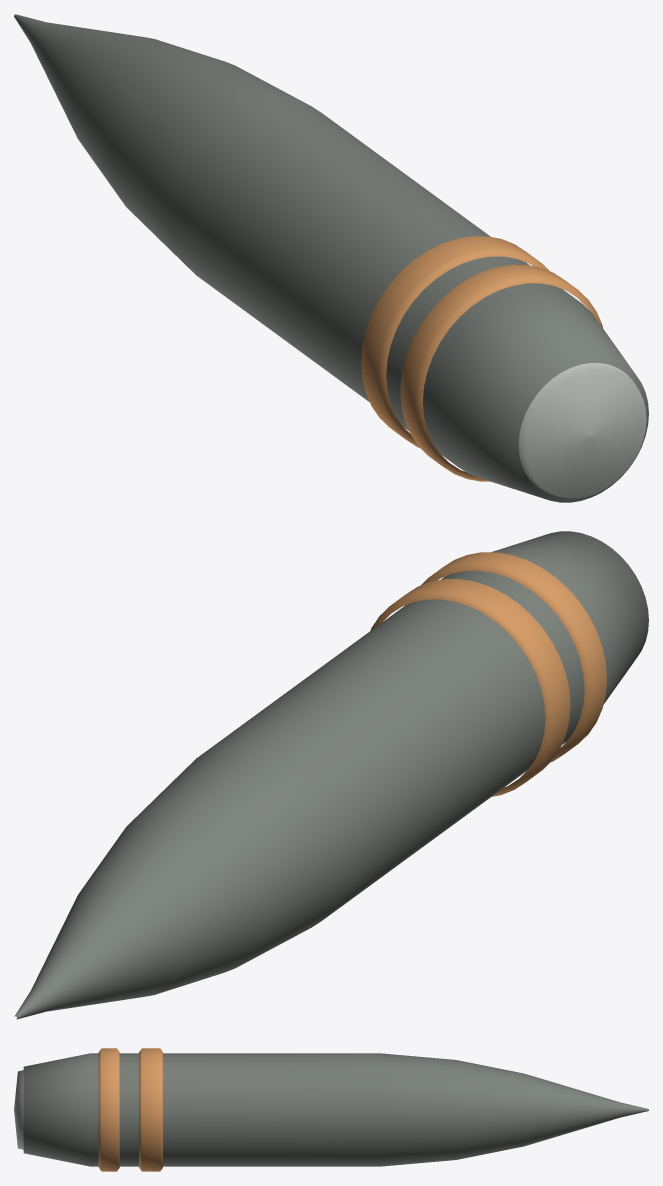
Rendered from ap_shell.glb.
3 views of the same model, one above another, from view 1: azimuth 30°, elevation 25°; view 2: azimuth 150°, elevation 25°; view 3: azimuth 270°, elevation 25° (orthographic). The views are drawn at different scales.
Parts seen in each view (by area): view 1: OgivePenetrator, MachinedBase, CopperBandForward, CopperBandRear; view 2: OgivePenetrator, CopperBandForward, CopperBandRear; view 3: OgivePenetrator, CopperBandForward, CopperBandRear, MachinedBase.
Part boxes in pixels (x1,y1,x2,y2): OgivePenetrator: [14, 14, 648, 502]; MachinedBase: [518, 363, 646, 498]; CopperBandForward: [361, 236, 549, 447]; CopperBandRear: [400, 264, 603, 481]; OgivePenetrator: [14, 531, 648, 1019]; CopperBandForward: [370, 579, 570, 796]; CopperBandRear: [421, 552, 606, 761]; OgivePenetrator: [23, 1053, 648, 1166]; CopperBandForward: [139, 1048, 162, 1171]; CopperBandRear: [98, 1048, 119, 1171]; MachinedBase: [14, 1070, 23, 1149].
Bounding box in the file's own units: 0.128 × 0.128 × 0.66.
